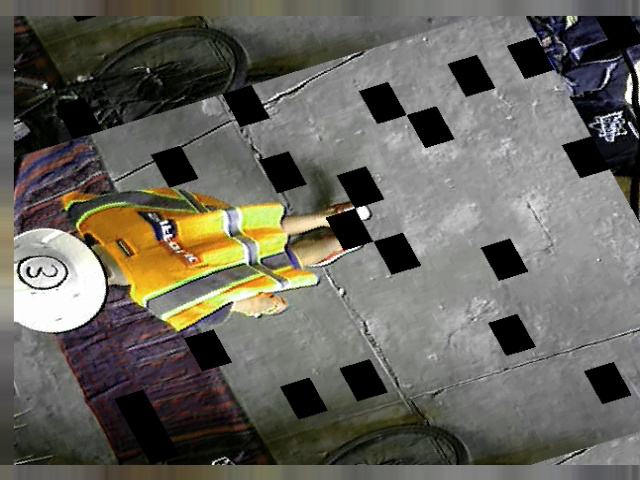three: (12, 249, 74, 296)
